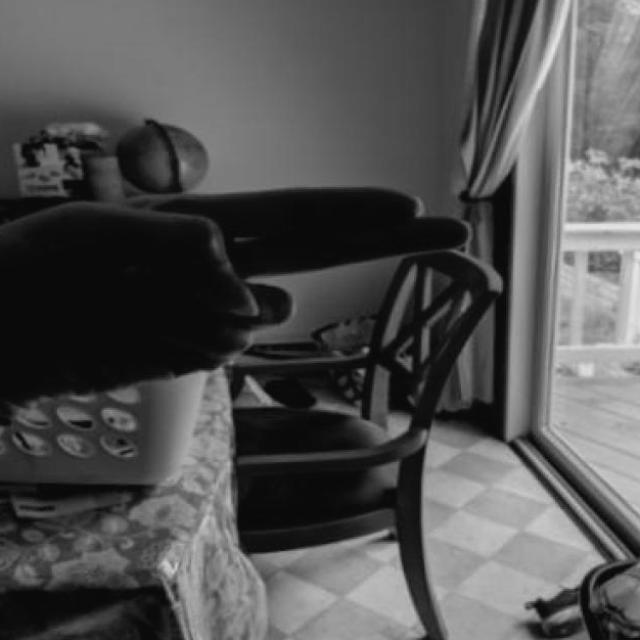H: (0, 157, 472, 405)
